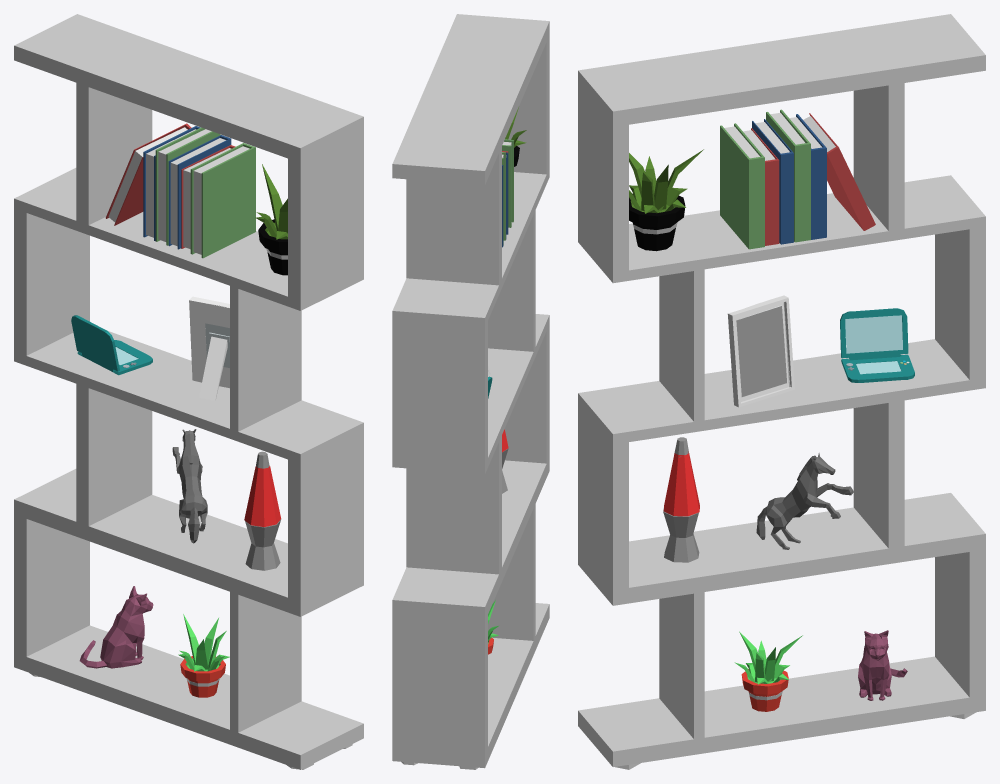
Rendered from Shelf.glb.
The picture shows the model from 3 angles, left to right: view 1: azimuth 30°, elevation 25°; view 2: azimuth 150°, elevation 25°; view 3: azimuth 270°, elevation 25°; orthographic projection. The views are drawn at different scales.
Parts seen in each view (by area): view 1: Bookshelf, Books, Portrait, Lamp, Cat_01(1), 3ds, Horse, plant.003, plant.002; view 2: Bookshelf, Books, plant.002; view 3: Bookshelf, Books, Portrait, 3ds, plant.002, Lamp, Horse, plant.003, Cat_01(1).
Boxes of the visible parts, x1,y1,x2,y2 form: Bookshelf: [14, 14, 363, 769]; Books: [105, 123, 255, 258]; Portrait: [189, 296, 229, 400]; Lamp: [244, 451, 281, 570]; Cat_01(1): [79, 586, 153, 668]; 3ds: [71, 315, 152, 375]; Horse: [172, 429, 207, 543]; plant.003: [178, 614, 229, 697]; plant.002: [255, 164, 287, 275]; Bookshelf: [392, 14, 549, 769]; Books: [502, 139, 513, 247]; plant.002: [505, 107, 526, 166]; Bookshelf: [578, 14, 985, 769]; Books: [720, 109, 875, 249]; Portrait: [727, 295, 794, 407]; 3ds: [840, 308, 914, 382]; plant.002: [629, 149, 703, 251]; Lamp: [663, 437, 699, 562]; Horse: [756, 453, 853, 549]; plant.003: [734, 631, 802, 711]; Cat_01(1): [858, 630, 907, 700].
Size of the model in its own units: 1.55 by 4.88 by 2.73.
Materials: 23 (2 with a texture image).
